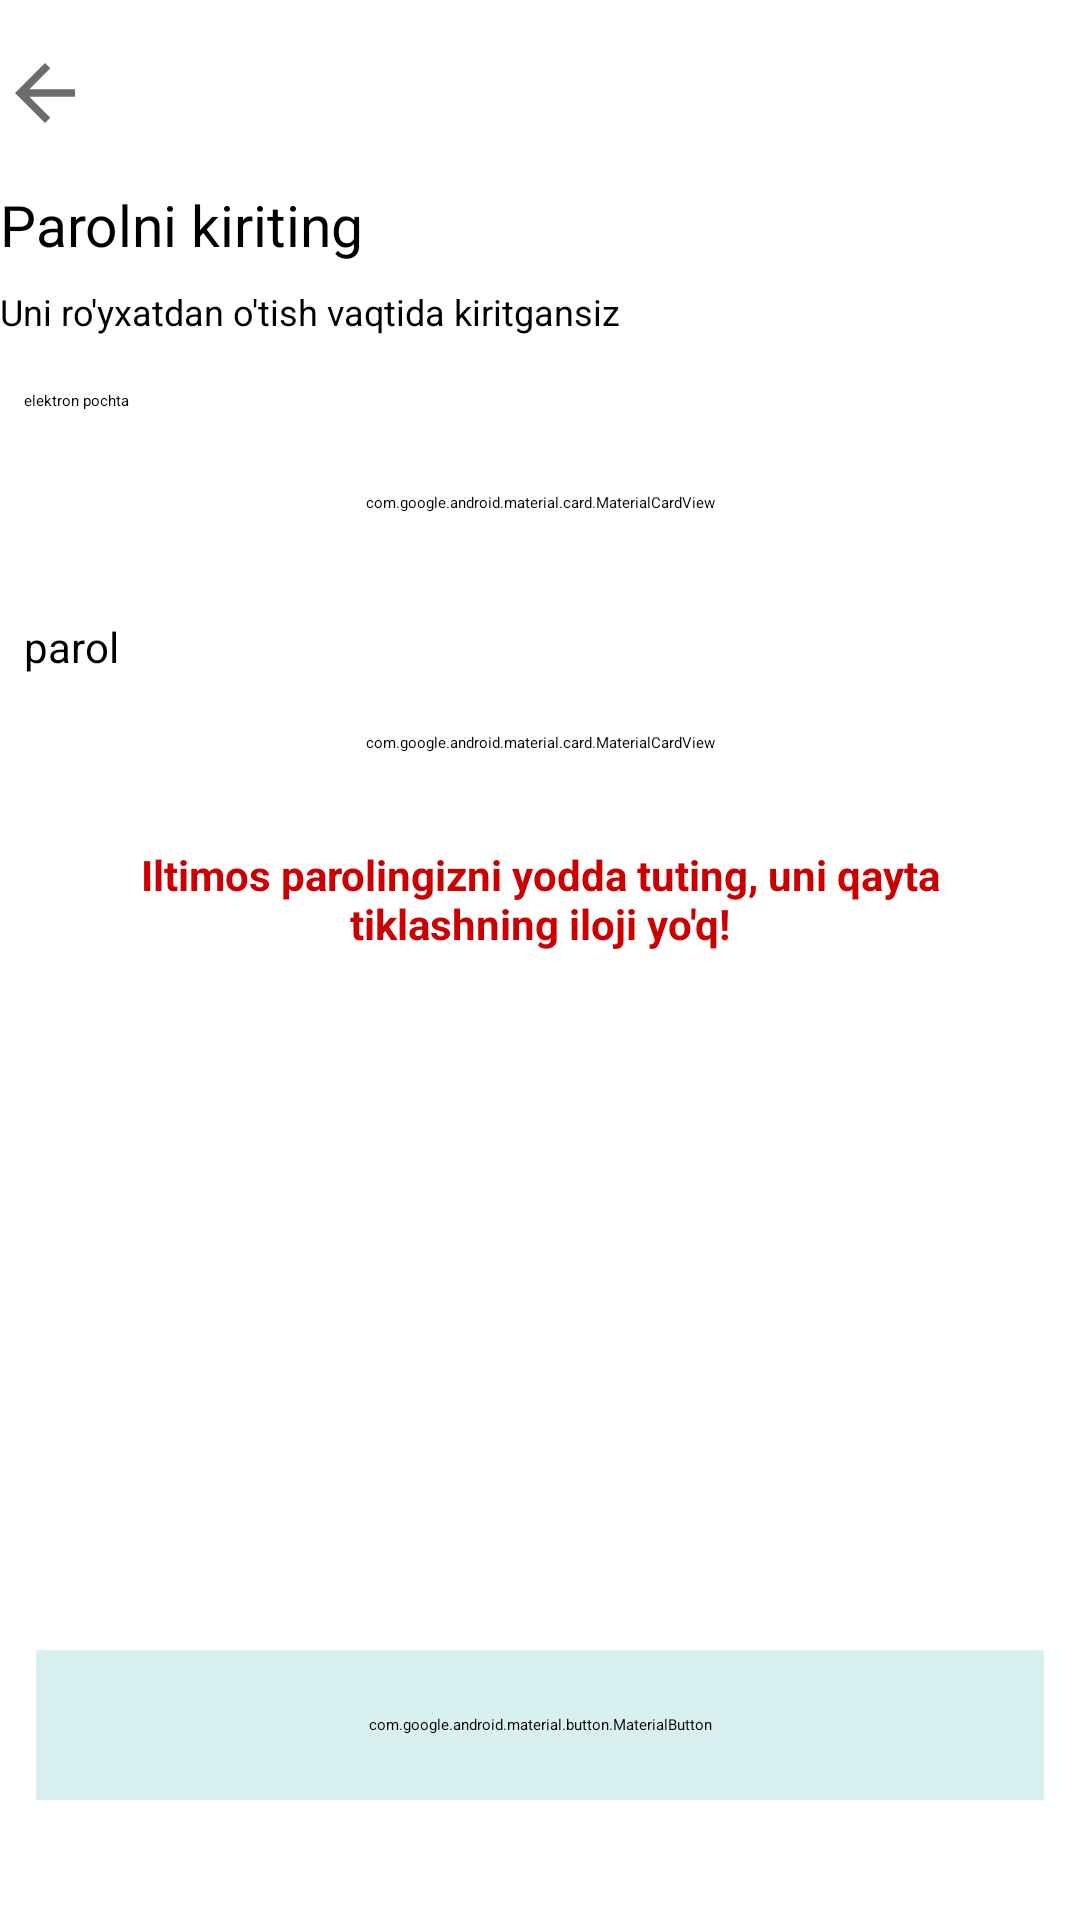

Icon click points for this 1080px x 1920px phone screenshot, format point (x, y):
arrow back: point (45, 93)
